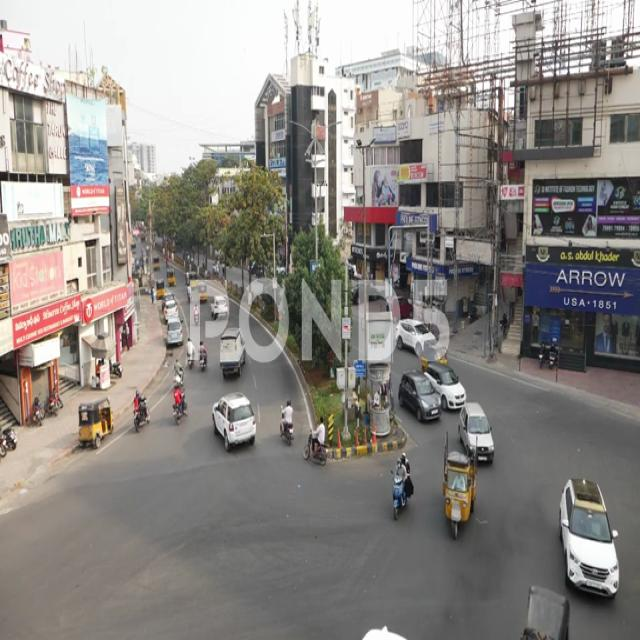car: (562, 489, 622, 604), (206, 396, 256, 463), (402, 378, 442, 422), (444, 372, 470, 411)
motorbike: (391, 452, 413, 522), (303, 415, 327, 467), (131, 390, 153, 428), (278, 402, 296, 448), (173, 382, 189, 427)
rikshaw: (77, 406, 119, 447)
truck: (218, 330, 246, 380)
